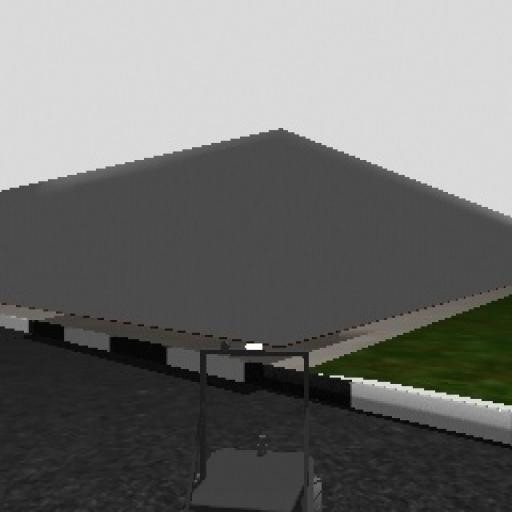huskya200: (186, 337, 326, 512)
